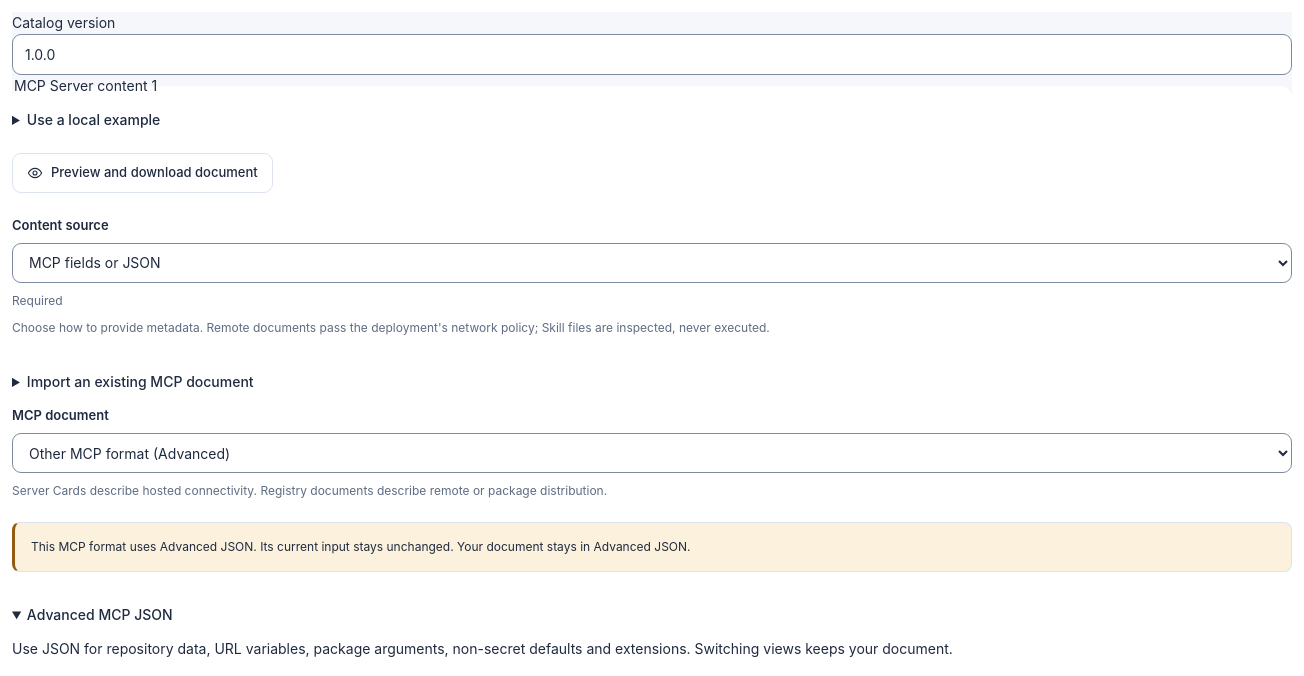
Test: retains private MCP descriptors in Advanced while offering an explicit new native document
This screenshot has width=1304, height=676.
Check: the field labelled "MCP server name" is not shown
Select "Package or distribution metadata (Registry server.json)" in the dropdown labelled "MCP document" at (652, 453), box [12,433,1292,473]
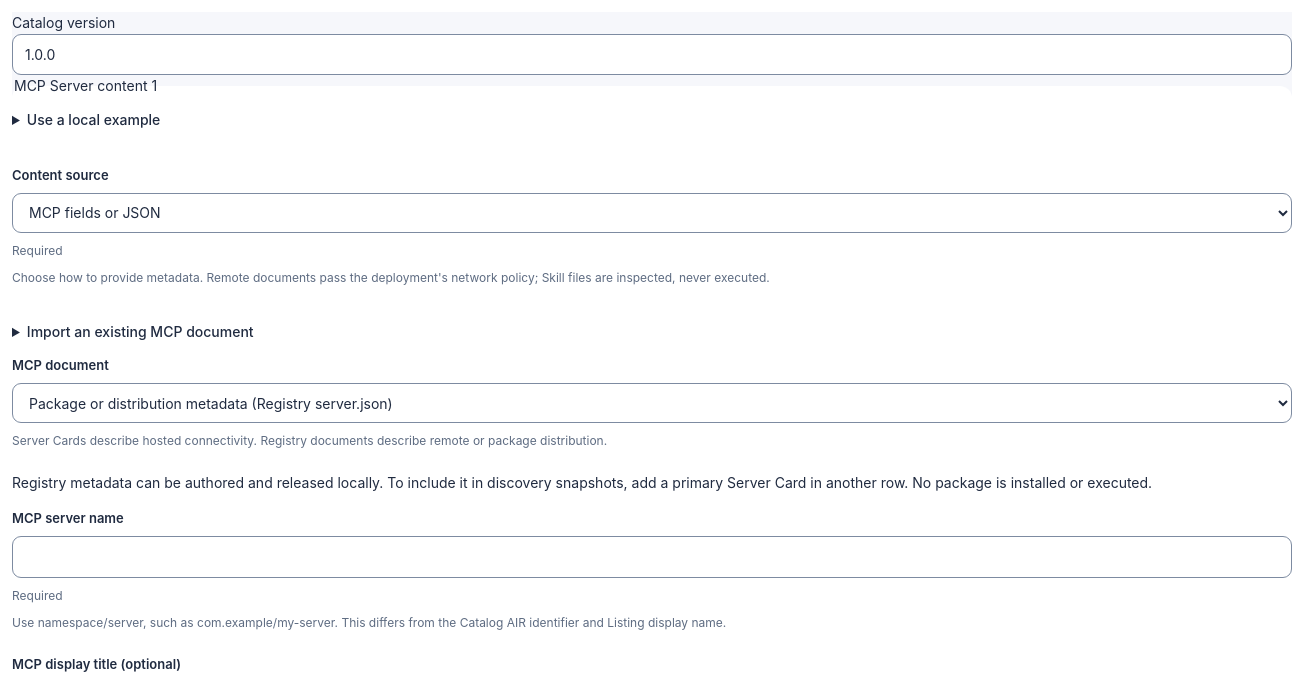
Check: the field labelled "MCP server name" is shown, box [12,536,1292,578]
